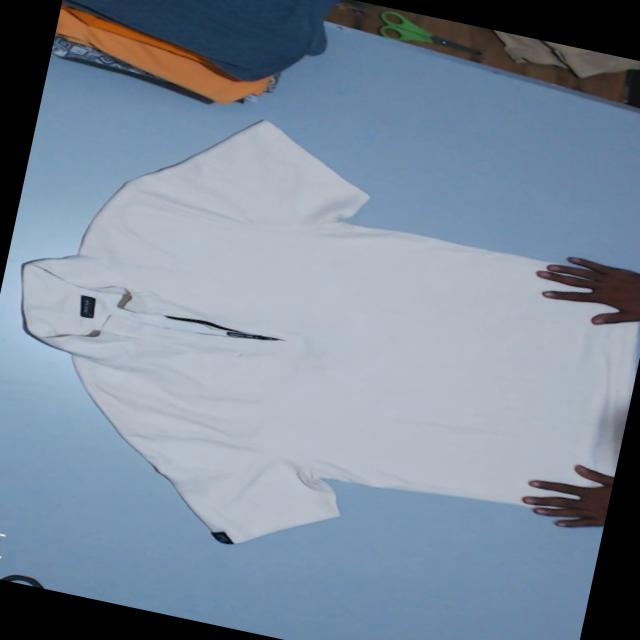new-garment: (22, 122, 635, 543)
